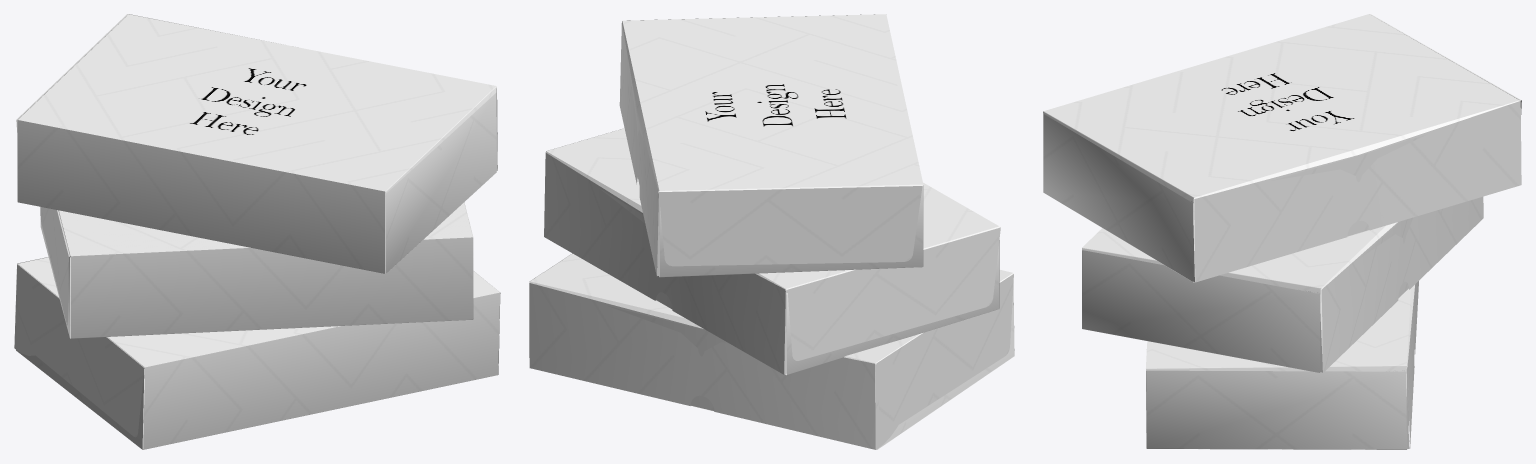
The model's file is Die Cut A-5.glb.
3 views of the same model, side by side, from view 1: azimuth 30°, elevation 25°; view 2: azimuth 150°, elevation 25°; view 3: azimuth 270°, elevation 25° (orthographic).
Parts seen in each view (by area): view 1: Box3-outer.003, Box3-outer.001, Box3-outer.002; view 2: Box3-outer.003, Box3-outer.001, Box3-outer.002; view 3: Box3-outer.003, Box3-outer.002, Box3-outer.001.
Boxes of the visible parts, left/top/right/bottom form: Box3-outer.003: left=16, top=14, right=497, bottom=273; Box3-outer.001: left=14, top=257, right=500, bottom=449; Box3-outer.002: left=40, top=202, right=473, bottom=338; Box3-outer.003: left=619, top=14, right=923, bottom=277; Box3-outer.001: left=529, top=253, right=1014, bottom=449; Box3-outer.002: left=544, top=128, right=1000, bottom=375; Box3-outer.003: left=1043, top=14, right=1521, bottom=282; Box3-outer.002: left=1082, top=196, right=1483, bottom=373; Box3-outer.001: left=1146, top=281, right=1418, bottom=449.
Bounding box in the file's own units: 4.1 × 2.51 × 4.15.
1 material, 1 textured.
